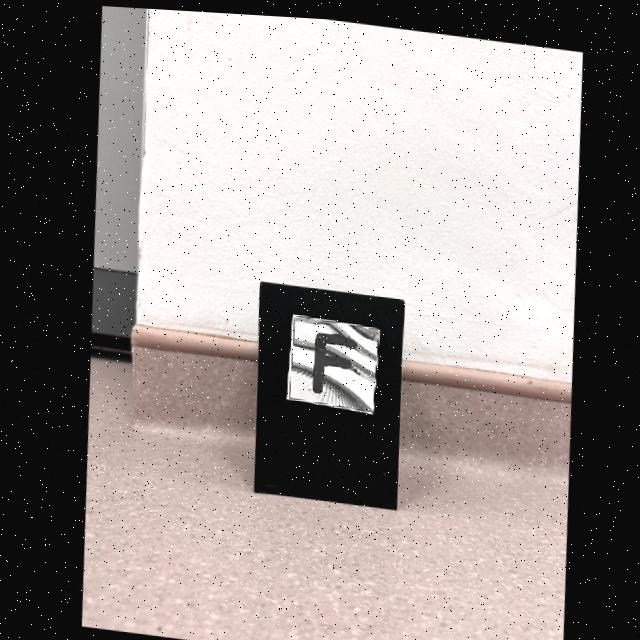F: (309, 328, 353, 389)
